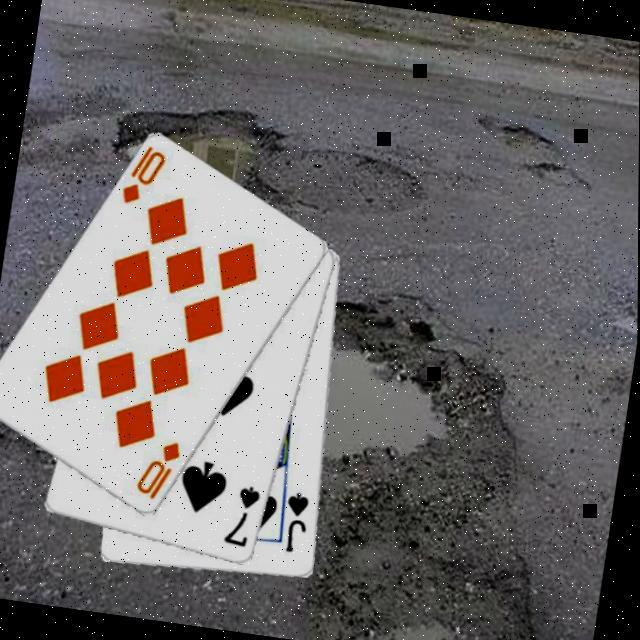10D: (130, 434, 186, 506), (116, 138, 170, 211)
7S: (220, 481, 264, 552)
JS: (278, 488, 314, 556)
